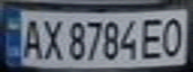4: (118, 16, 142, 61)
7: (81, 18, 106, 61)
8: (103, 17, 124, 61), (66, 17, 87, 61)
A: (18, 15, 45, 60)
E: (139, 15, 169, 61)
O: (160, 14, 187, 58)
X: (39, 16, 66, 61)
